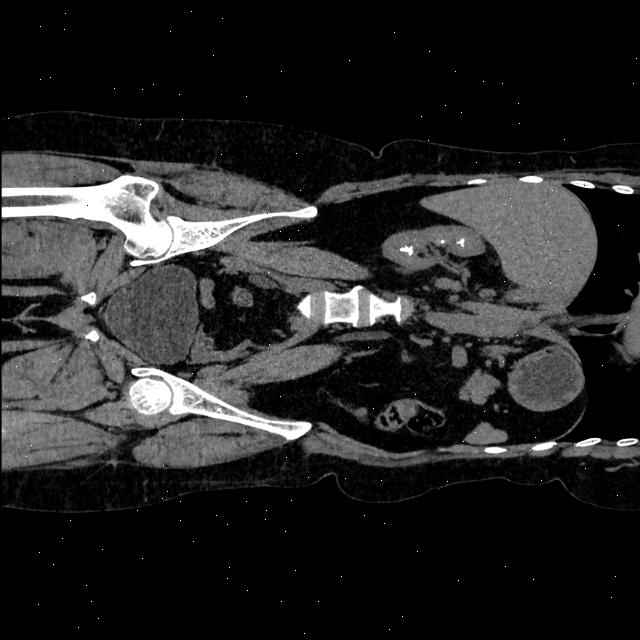kidneystone: (398, 245, 413, 256)
